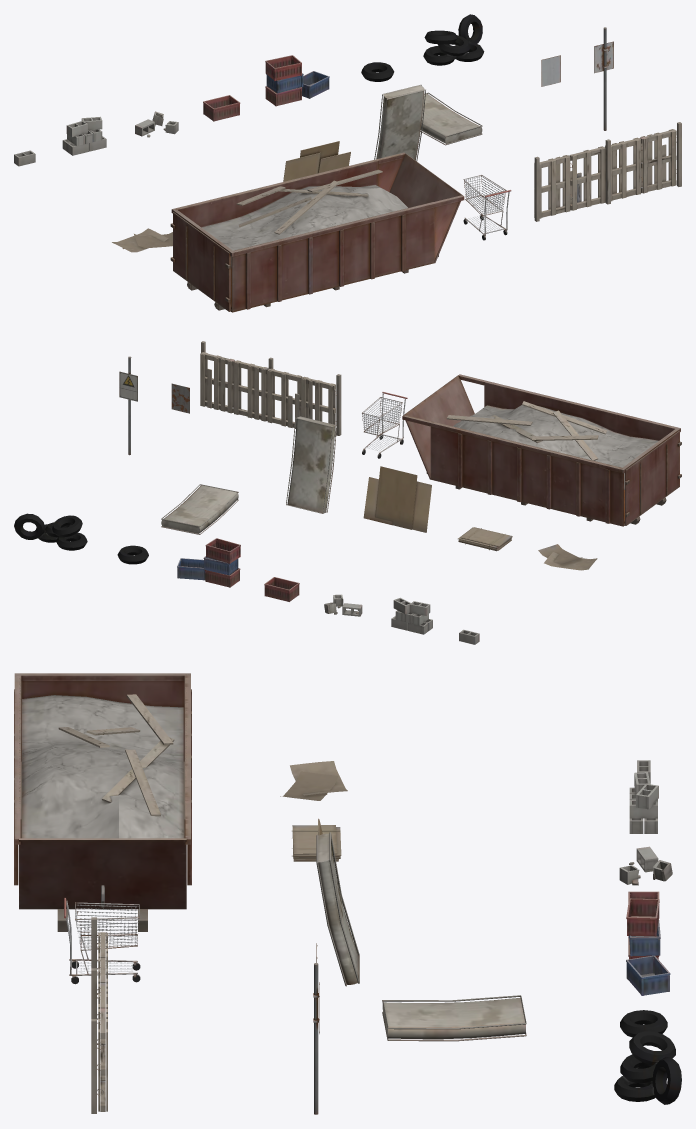
File: set_yard_clutter.glb
3 renders of one model, top to bottom at view 1: azimuth 30°, elevation 25°; view 2: azimuth 150°, elevation 25°; view 3: azimuth 270°, elevation 25°, orthographic. The views are drawn at different scales.
Parts seen in each view (by area): view 1: skip_lod0, pallet_fence_lod0, mattress_leaning_lod0, crate_stack_lod0, tyre_pile_lod0, mattress_flat_lod0, cardboard_leaning_lod0, shopping_trolley_lod0, cinder_stack_lod0, warning_post_lod0, cardboard_flat_lod0, plastic_crate_lod0 (+3 smaller); view 2: skip_lod0, pallet_fence_lod0, mattress_leaning_lod0, cardboard_leaning_lod0, mattress_flat_lod0, crate_stack_lod0, tyre_pile_lod0, shopping_trolley_lod0, cinder_stack_lod0, cardboard_flat_lod0, cardboard_bundle_lod0, warning_post_lod0 (+4 smaller); view 3: skip_lod0, mattress_flat_lod0, tyre_pile_lod0, crate_stack_lod0, mattress_leaning_lod0, pallet_fence_lod0, shopping_trolley_lod0, cardboard_flat_lod0, cinder_stack_lod0, cardboard_bundle_lod0, cinder_broken_lod0, tyre_loose_lod0 (+1 smaller).
Boxes of the visible parts, x1=… form: skip_lod0: x1=170, y1=152, x2=464, y2=312; pallet_fence_lod0: x1=534, y1=122, x2=681, y2=221; mattress_leaning_lod0: x1=374, y1=84, x2=425, y2=161; crate_stack_lod0: x1=265, y1=55, x2=329, y2=106; tyre_pile_lod0: x1=423, y1=14, x2=484, y2=65; mattress_flat_lod0: x1=420, y1=92, x2=482, y2=145; cardboard_leaning_lod0: x1=283, y1=141, x2=350, y2=181; shopping_trolley_lod0: x1=463, y1=175, x2=511, y2=240; cinder_stack_lod0: x1=62, y1=116, x2=106, y2=155; warning_post_lod0: x1=594, y1=27, x2=613, y2=130; cardboard_flat_lod0: x1=112, y1=228, x2=172, y2=252; plastic_crate_lod0: x1=203, y1=95, x2=240, y2=121; skip_lod0: x1=402, y1=374, x2=681, y2=526; pallet_fence_lod0: x1=200, y1=341, x2=341, y2=436; mattress_leaning_lod0: x1=286, y1=416, x2=336, y2=513; cardboard_leaning_lod0: x1=363, y1=466, x2=431, y2=532; mattress_flat_lod0: x1=161, y1=484, x2=238, y2=534; crate_stack_lod0: x1=177, y1=538, x2=240, y2=587; tyre_pile_lod0: x1=14, y1=513, x2=87, y2=550; shopping_trolley_lod0: x1=362, y1=392, x2=407, y2=458; cinder_stack_lod0: x1=391, y1=597, x2=432, y2=634; cardboard_flat_lod0: x1=538, y1=544, x2=597, y2=570; cardboard_bundle_lod0: x1=458, y1=527, x2=512, y2=551; warning_post_lod0: x1=119, y1=356, x2=137, y2=455; skip_lod0: x1=14, y1=673, x2=191, y2=931; mattress_flat_lod0: x1=382, y1=995, x2=526, y2=1041; tyre_pile_lod0: x1=614, y1=1031, x2=681, y2=1104; crate_stack_lod0: x1=626, y1=898, x2=670, y2=995; mattress_leaning_lod0: x1=316, y1=832, x2=359, y2=986; pallet_fence_lod0: x1=91, y1=917, x2=107, y2=1113; shopping_trolley_lod0: x1=64, y1=898, x2=140, y2=984; cardboard_flat_lod0: x1=280, y1=761, x2=347, y2=800; cinder_stack_lod0: x1=629, y1=772, x2=658, y2=833; cardboard_bundle_lod0: x1=292, y1=825, x2=341, y2=861; cinder_broken_lod0: x1=619, y1=846, x2=672, y2=885; tyre_loose_lod0: x1=620, y1=1010, x2=667, y2=1037.
Size of what is drawn, in the model's own units: 11.55 by 2.28 by 9.16.
Materials: 2 (2 with a texture image).
